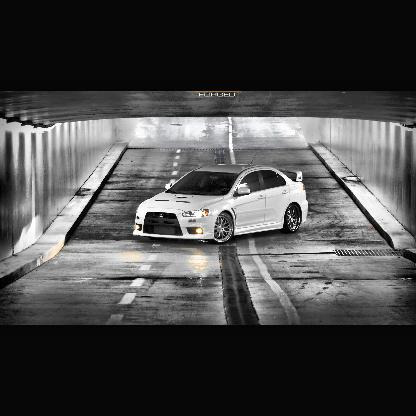Mitsubishi Lancer Sedan 2012: (131, 155, 311, 246)
